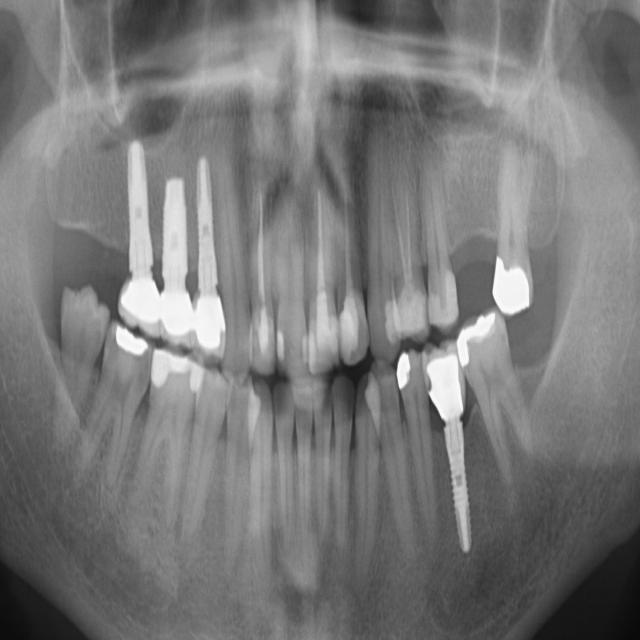dentin-curugu: (253, 376, 296, 437), (336, 369, 379, 425)
dolgu: (145, 342, 211, 401), (310, 306, 364, 372), (450, 312, 510, 371), (244, 308, 296, 367), (106, 319, 156, 376), (389, 344, 430, 398), (426, 272, 461, 328)
implant: (423, 346, 480, 552), (154, 127, 198, 345), (187, 153, 233, 353), (123, 127, 162, 336)
kanal-tedavisi: (386, 176, 429, 303), (243, 179, 279, 316), (337, 188, 370, 326), (308, 189, 336, 332)
kaplama: (483, 250, 547, 316)
